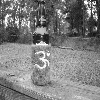beer: (35, 1, 51, 48)
